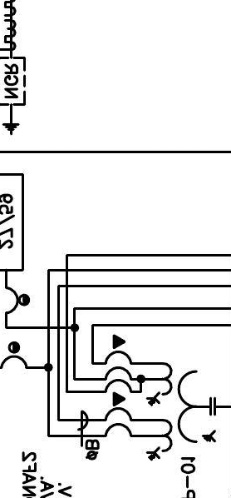115_cvt_3p: (145, 362, 216, 462)
